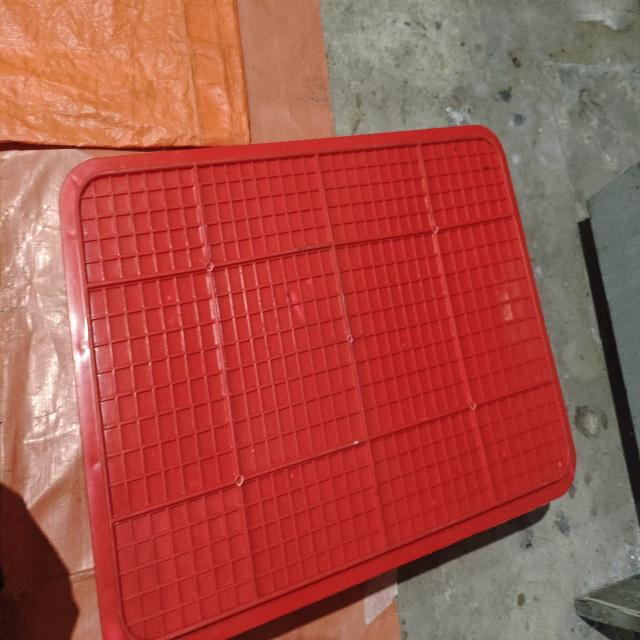red plastic box: (59, 125, 576, 640)
